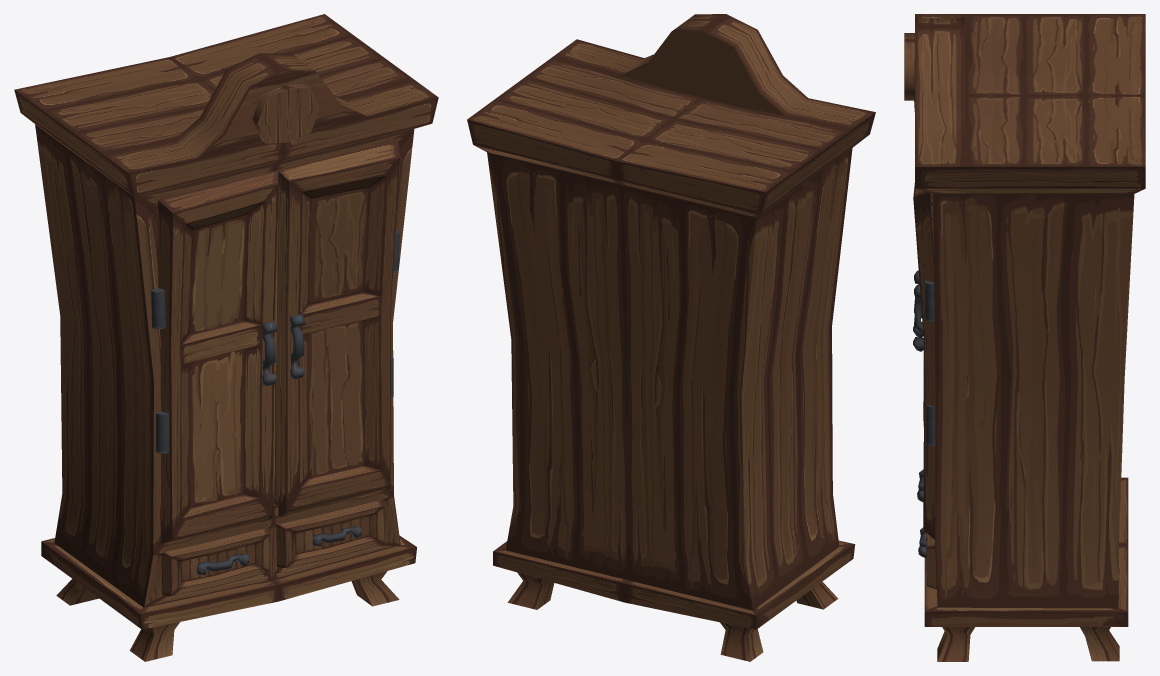
File: SM_PROP_wardrobe_interior_01.fbx
3 renders of one model, left to right at view 1: azimuth 30°, elevation 25°; view 2: azimuth 150°, elevation 25°; view 3: azimuth 270°, elevation 25°, orthographic. The views are drawn at different scales.
Visible parts, largest first — view 1: SM_PROP_wardrobe_interior_01, SM_PROP_wardrobe_door_02_interior_01, SM_PROP_wardrobe_door_01_interior_01, SM_PROP_wardrobe_drawer_01_interior_01, SM_PROP_wardrobe_drawer_02_interior_01; view 2: SM_PROP_wardrobe_interior_01; view 3: SM_PROP_wardrobe_interior_01, SM_PROP_wardrobe_door_02_interior_01, SM_PROP_wardrobe_drawer_02_interior_01.
Part boxes in pixels (box(x1,y1,x2,y2)): SM_PROP_wardrobe_interior_01: box(14, 14, 438, 661); SM_PROP_wardrobe_door_02_interior_01: box(275, 141, 399, 516); SM_PROP_wardrobe_door_01_interior_01: box(157, 170, 278, 543); SM_PROP_wardrobe_drawer_01_interior_01: box(161, 527, 270, 595); SM_PROP_wardrobe_drawer_02_interior_01: box(276, 499, 384, 567); SM_PROP_wardrobe_interior_01: box(467, 14, 875, 661); SM_PROP_wardrobe_interior_01: box(904, 14, 1145, 661); SM_PROP_wardrobe_door_02_interior_01: box(913, 183, 935, 539); SM_PROP_wardrobe_drawer_02_interior_01: box(918, 527, 936, 589).
Bounding box in the file's own units: 168 × 293 × 112.
